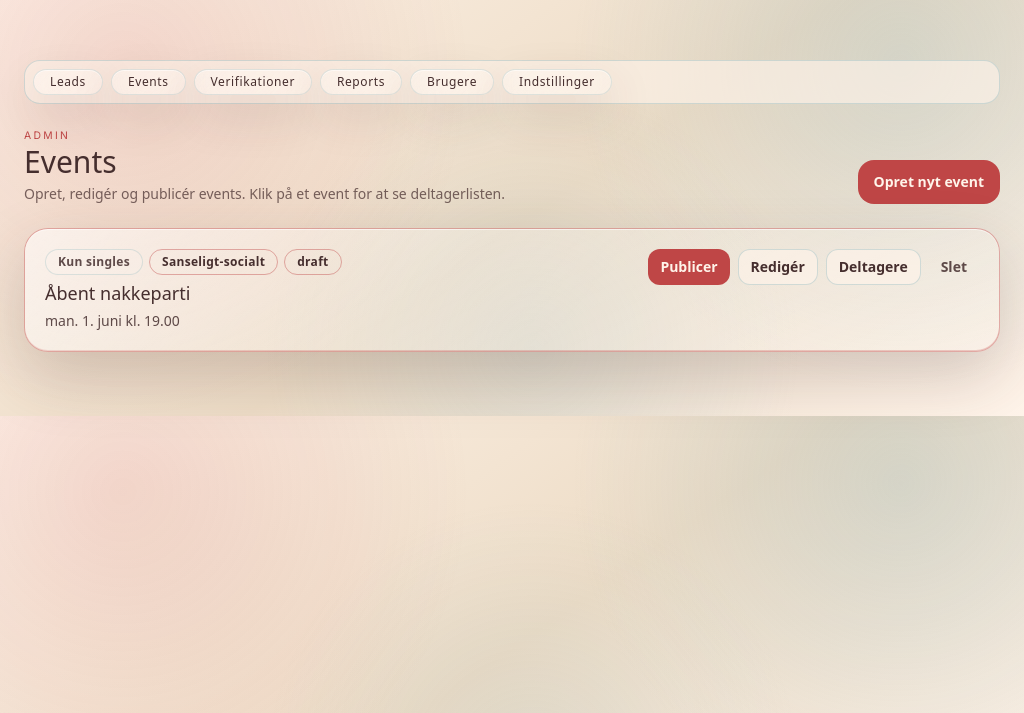
Test: AdminEventsPage › toggles the edit form for an existing event and submits a PATCH update
Check: the text "Åbent nakkeparti" is shown, box [45,281,190,305]
Click the button with test id "edit-event-evt-1" at (778, 267), box [738,249,818,285]
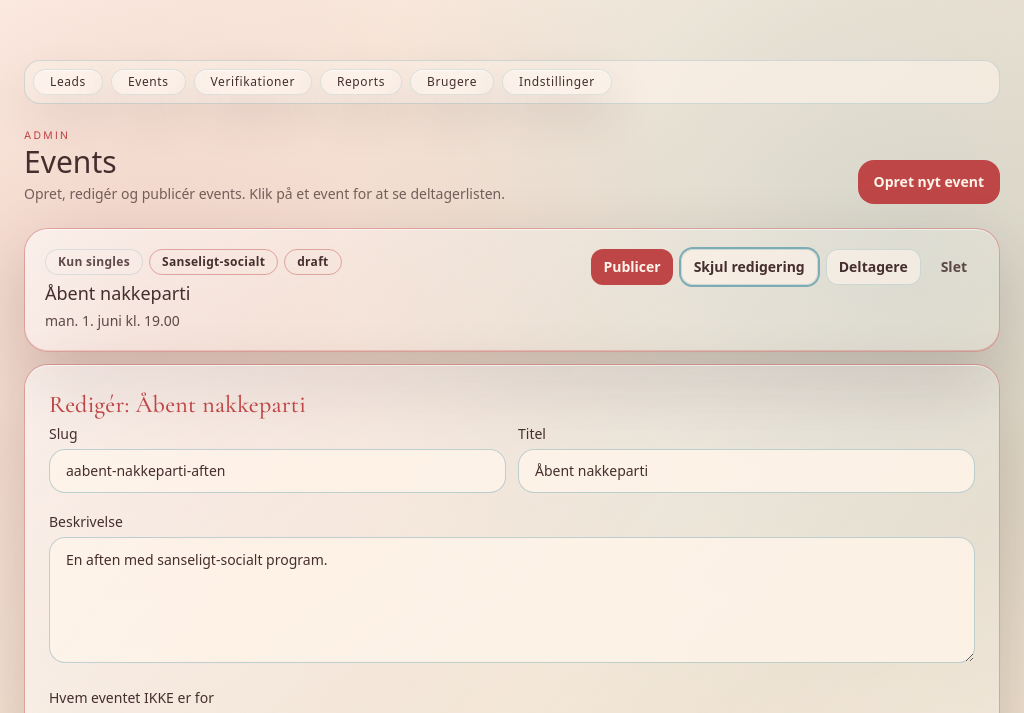
Check: the heading "Redigér: Åbent nakkeparti" is shown, box [49,390,306,419]
Check: the field labelled "Slug" is disabled, box [49,449,506,493]
// Skift titel + submit.
Replace the text in the field labelled "Titel" with "Ny titel" at (746, 471), box [518,449,975,493]
(page scrolled)
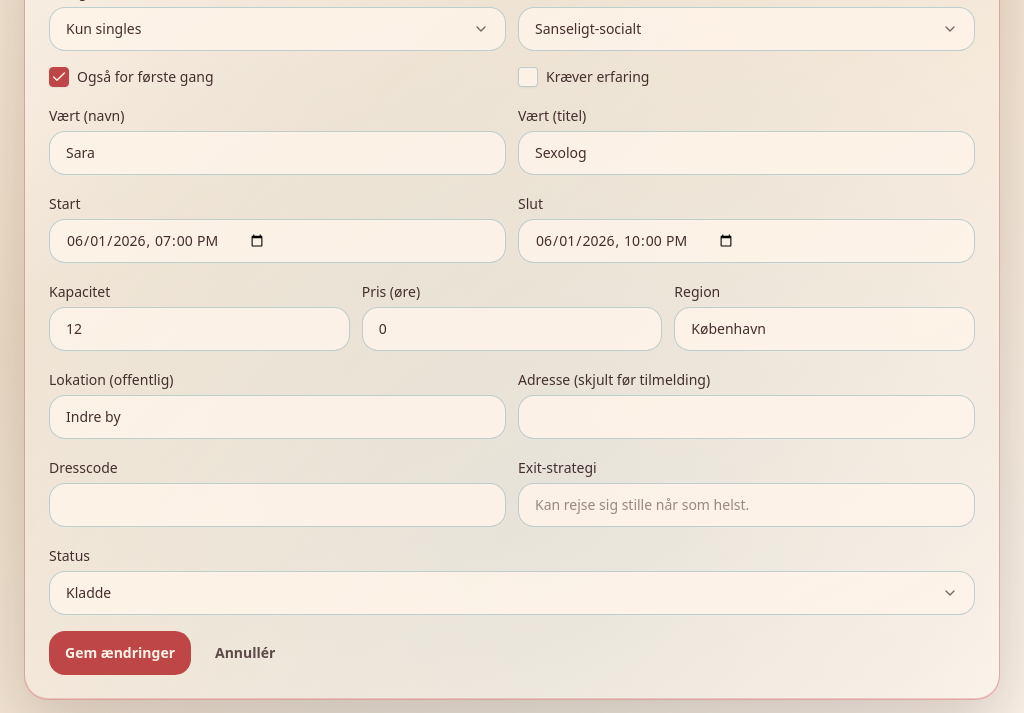
Click the button "Gem ændringer" at (120, 653), box [49,631,191,675]
(page scrolled)
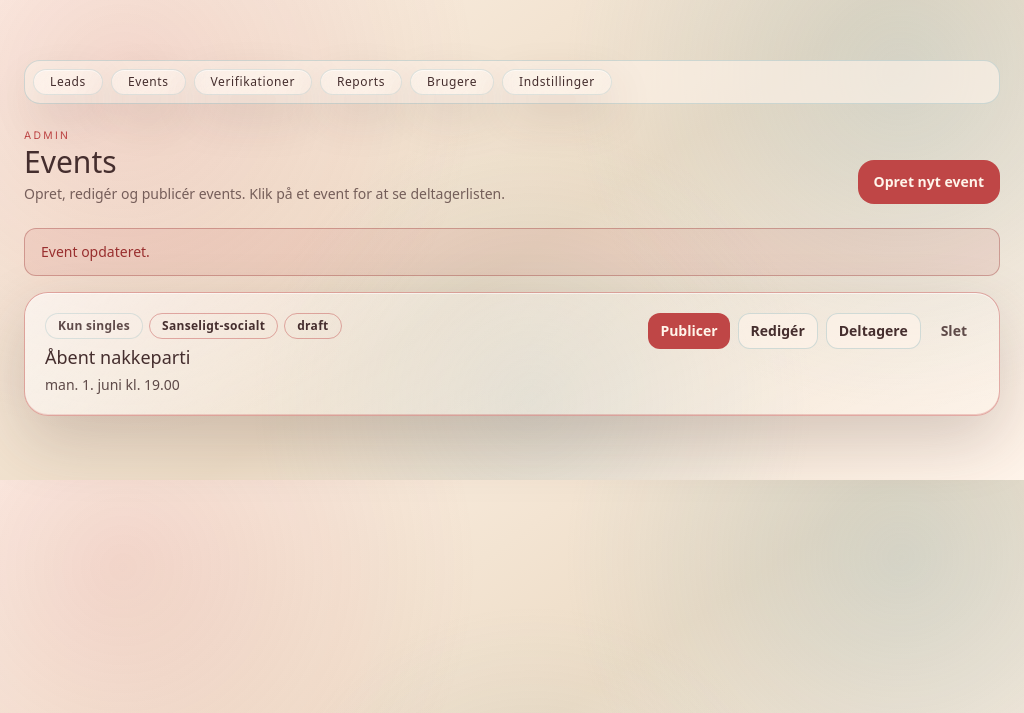
Check: the text "Event opdateret." is shown, box [41,242,150,261]
